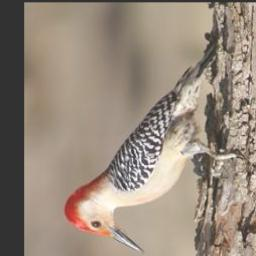Woodpecker: (59, 42, 248, 255)
